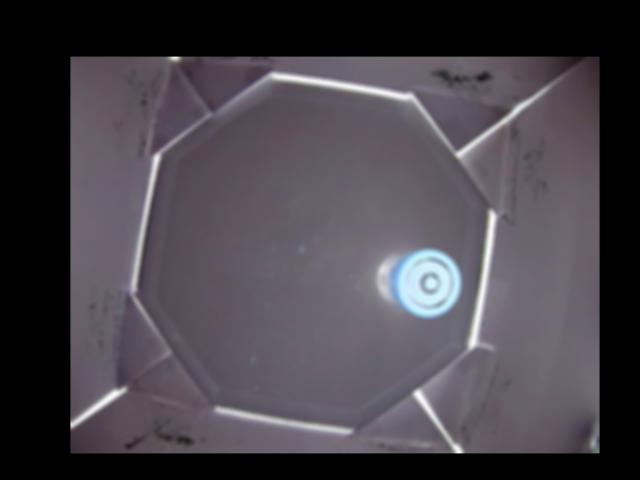Battery: (377, 247, 462, 317)
